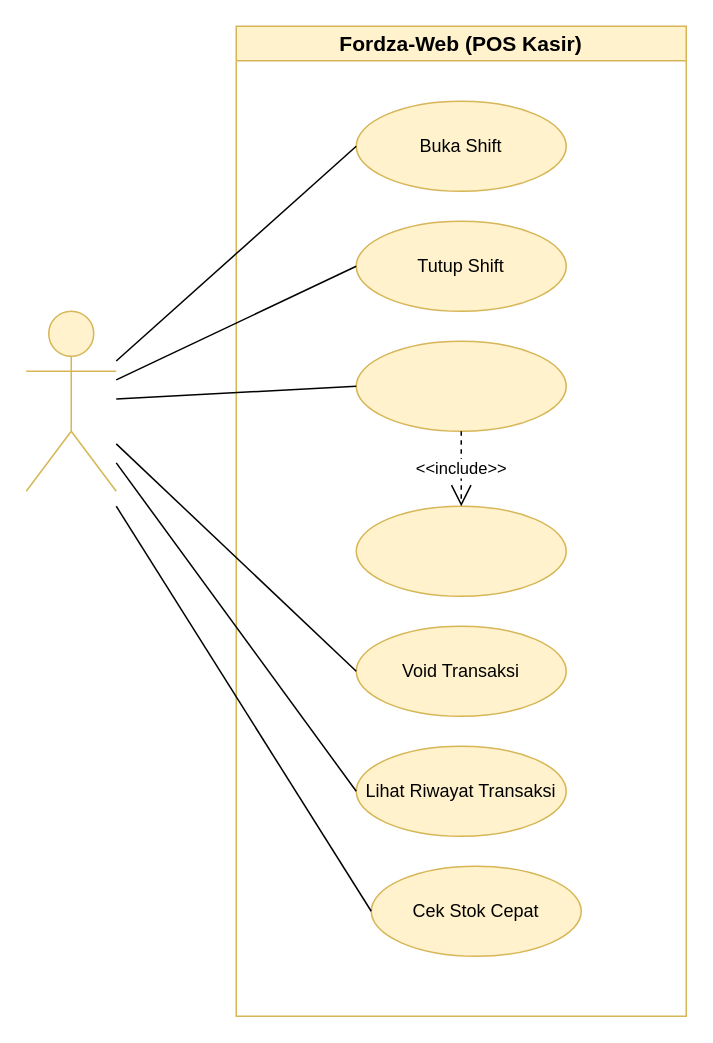
The diagram is 713 pixels wide and 1043 high, and some of its shapes have lost their labels. Each missing label, with the centre of its shape:
"Cetak Invoice" goes at (460,550).
"Kasir" goes at (70,400).
"Proses Transaksi" goes at (460,385).
